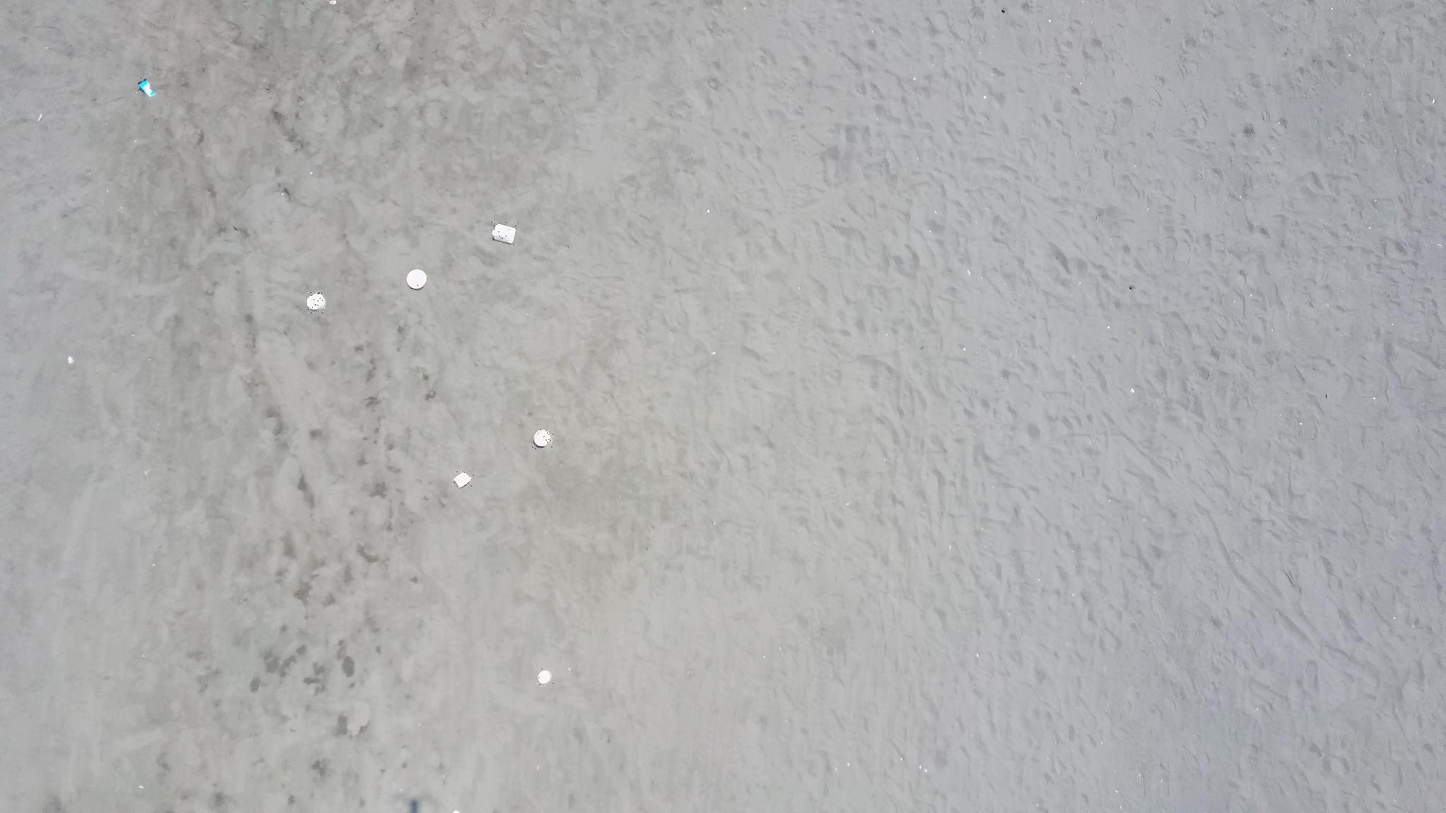Garbage: (491, 223, 514, 243), (405, 269, 425, 289), (306, 292, 325, 310), (532, 430, 552, 447), (137, 78, 154, 96), (453, 472, 471, 488), (537, 669, 551, 684), (36, 114, 42, 121), (68, 356, 73, 364)
